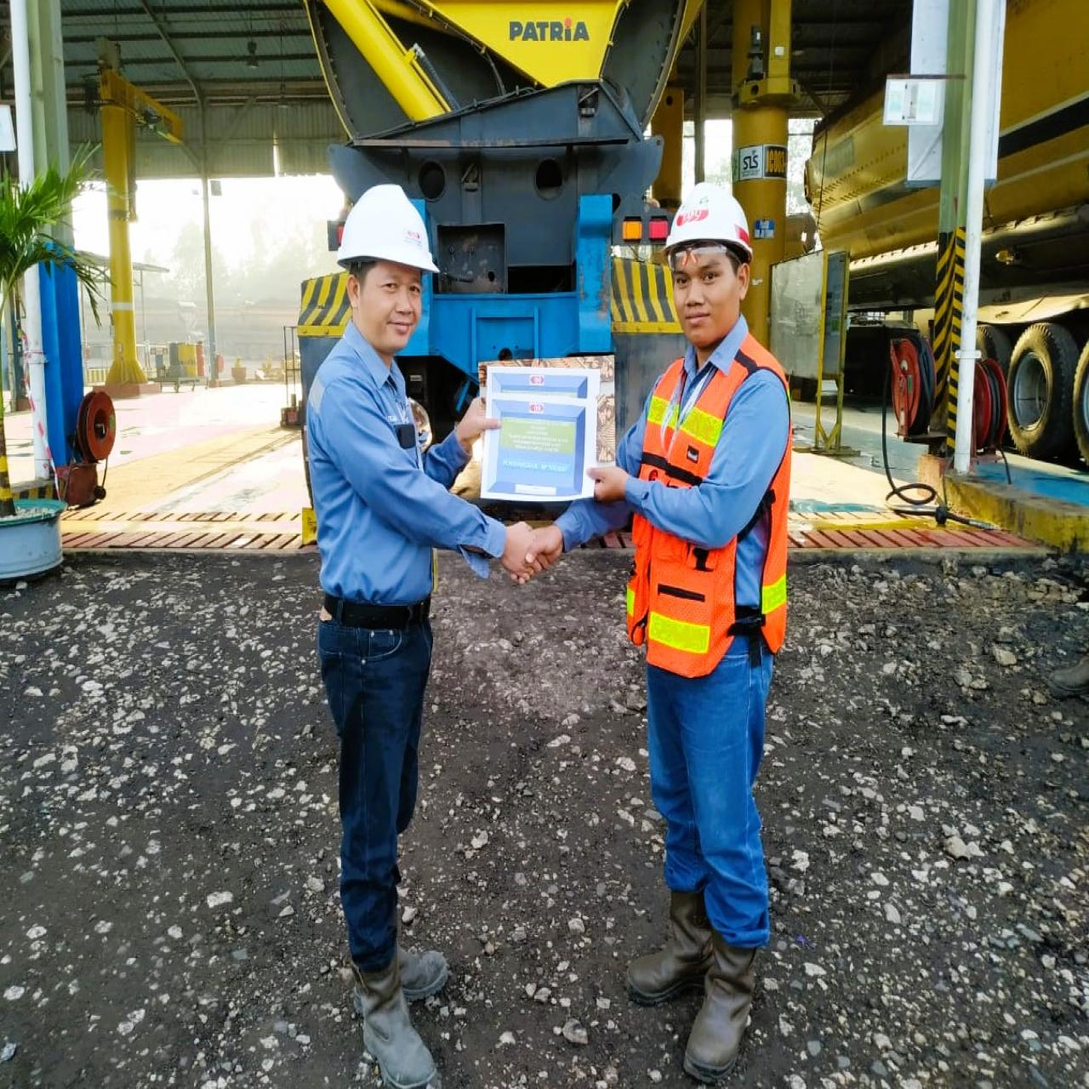NO_Safety_Vest: (302, 339, 459, 630)
Person: (260, 162, 553, 1089), (527, 154, 809, 1068)
Safety_Vest: (617, 333, 794, 676)
